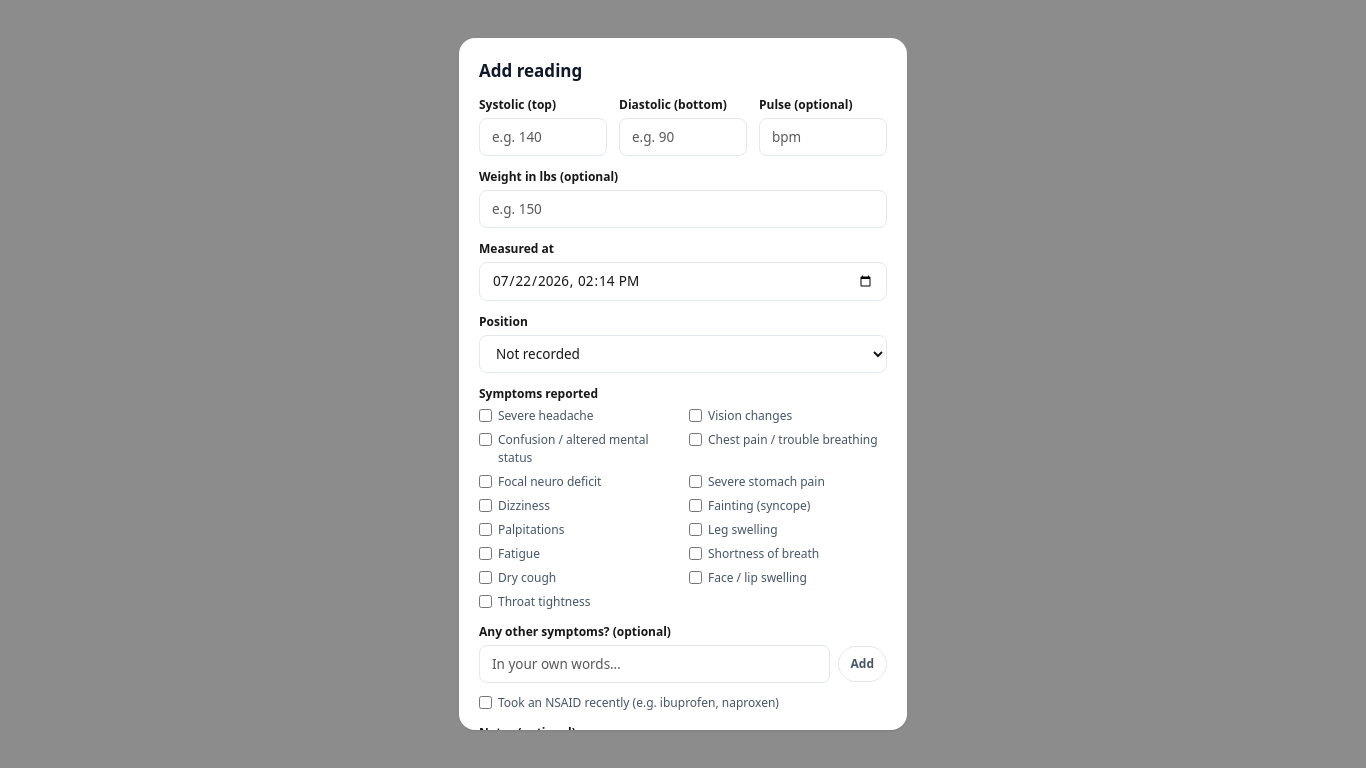
Test: AddEditReadingModal — add mode + session flow › surfaces the backend session-expiry 400 message
Type "140" into the number field with test id "admin-reading-systolic".
click(543, 137); type("140")  # box [479,118,607,156]
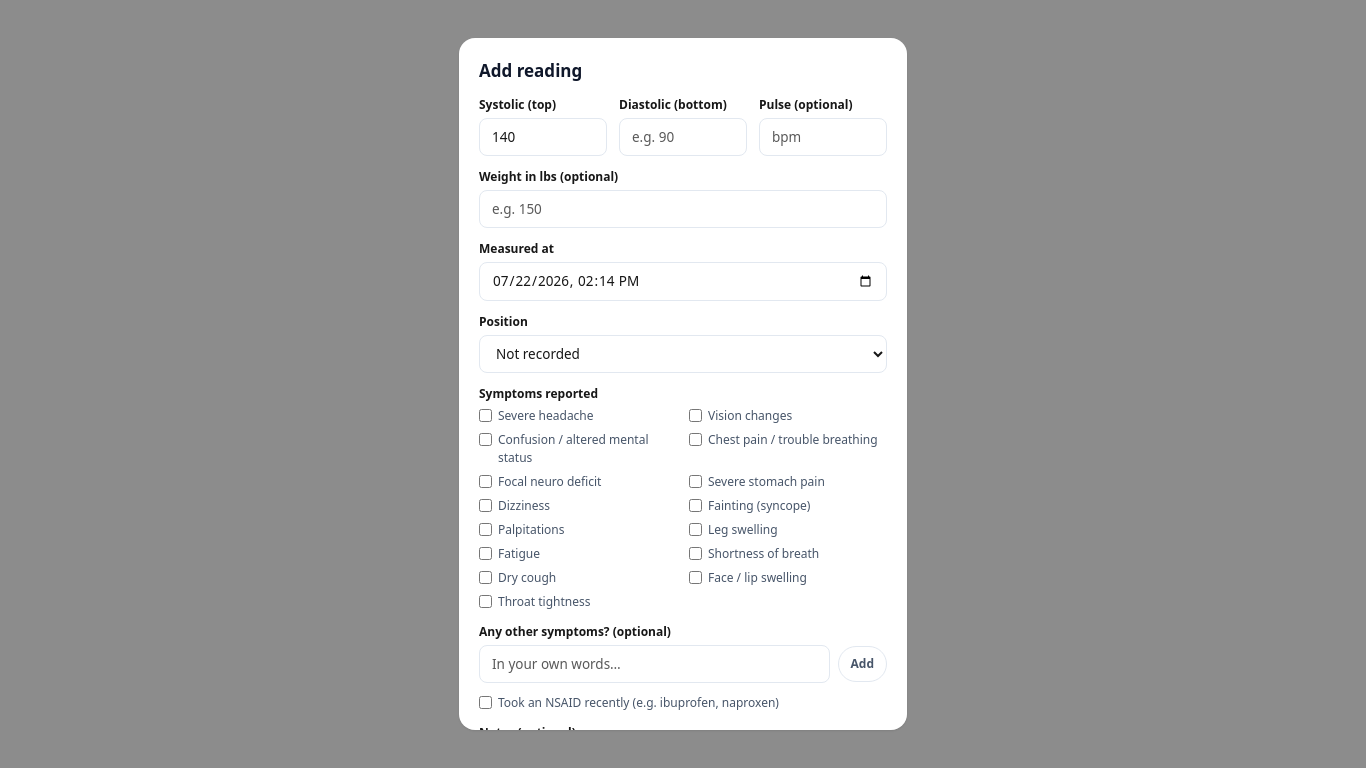
Type "90" into the number field with test id "admin-reading-diastolic".
click(683, 137); type("90")  # box [619,118,747,156]
(page scrolled)
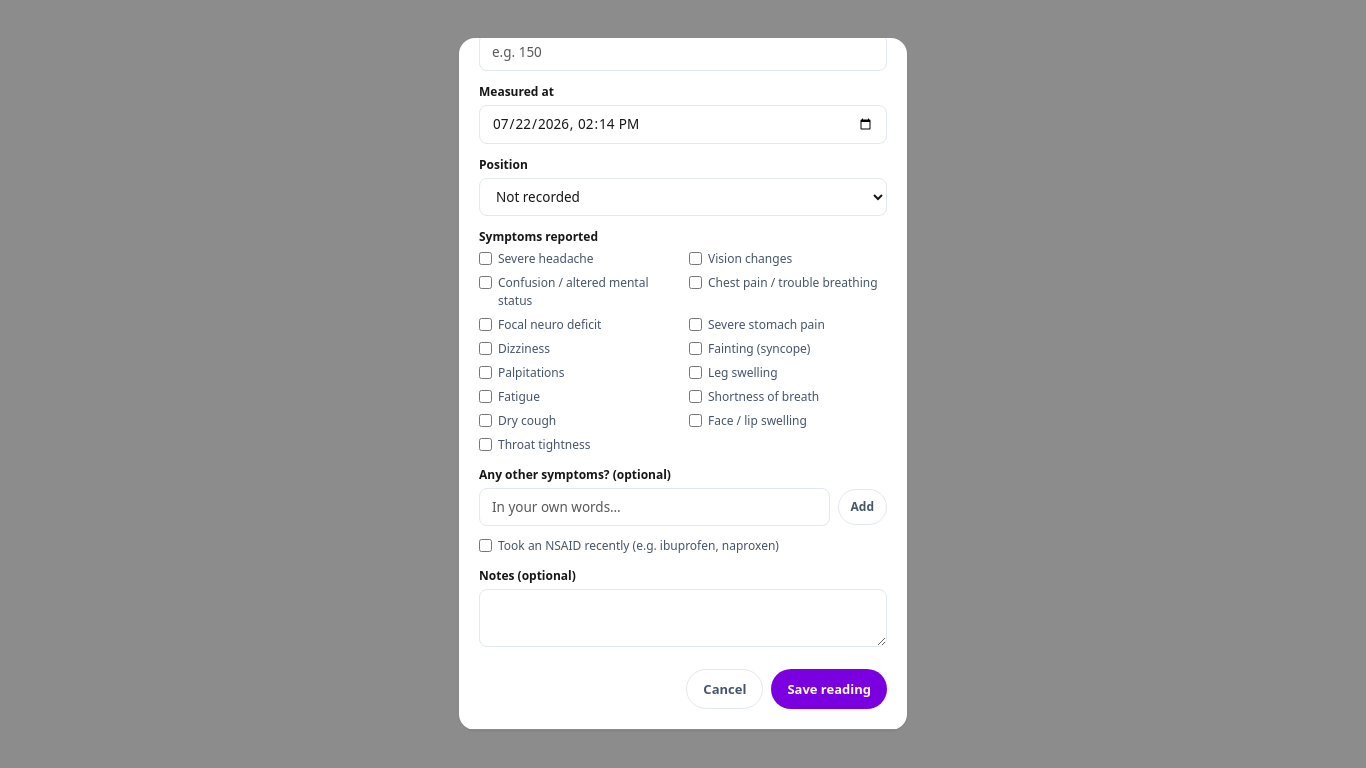
Click the button with test id "admin-reading-save".
click(829, 689)  # box [771,669,887,709]
(page scrolled)
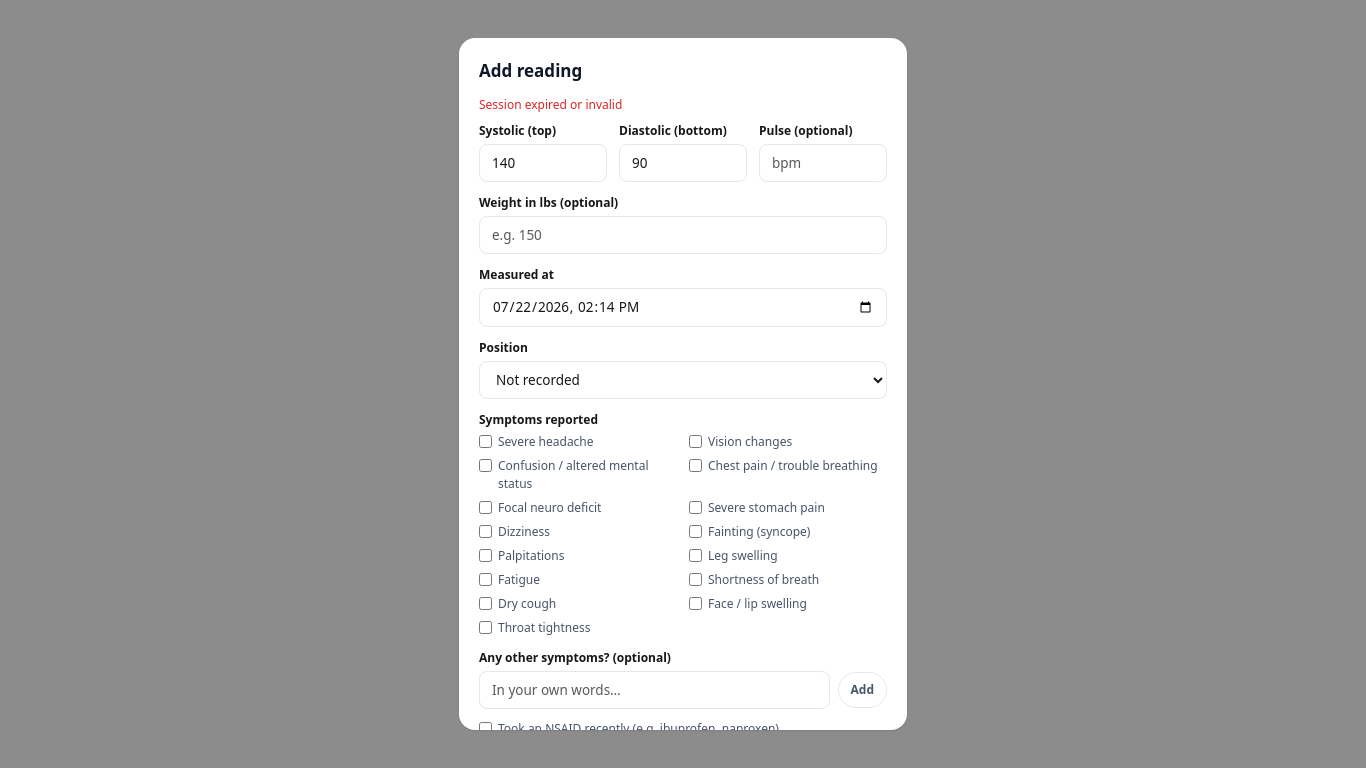
Expected: the text with test id "admin-reading-modal-error" reads "Session expired or invalid", [479,96,622,113]
